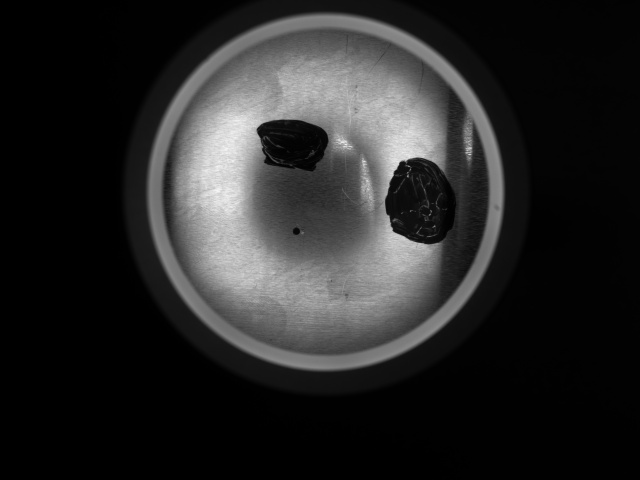zang_wu: (384, 156, 458, 244), (256, 119, 330, 172)
zhen_kong: (291, 224, 303, 237)
